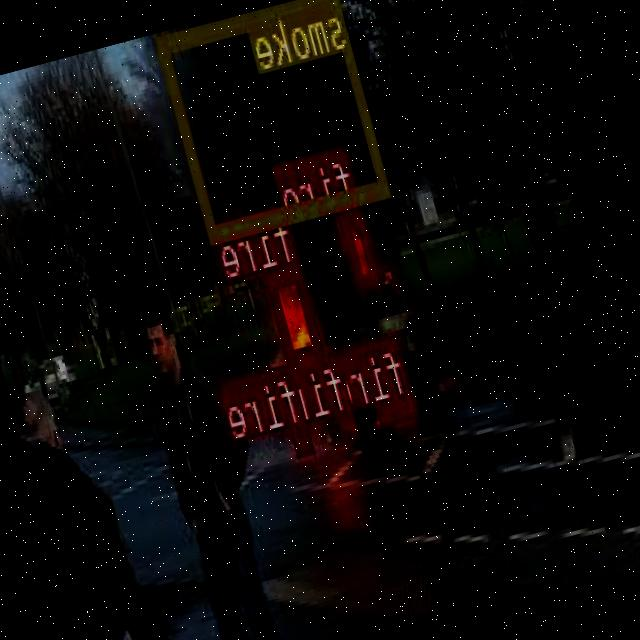fire: (264, 258, 327, 366), (338, 204, 385, 290), (376, 394, 418, 422), (292, 422, 316, 452), (339, 407, 359, 433)
smoke: (156, 0, 390, 239)
